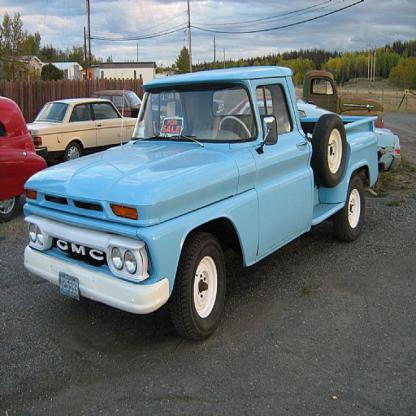Truck: (24, 66, 379, 340)
